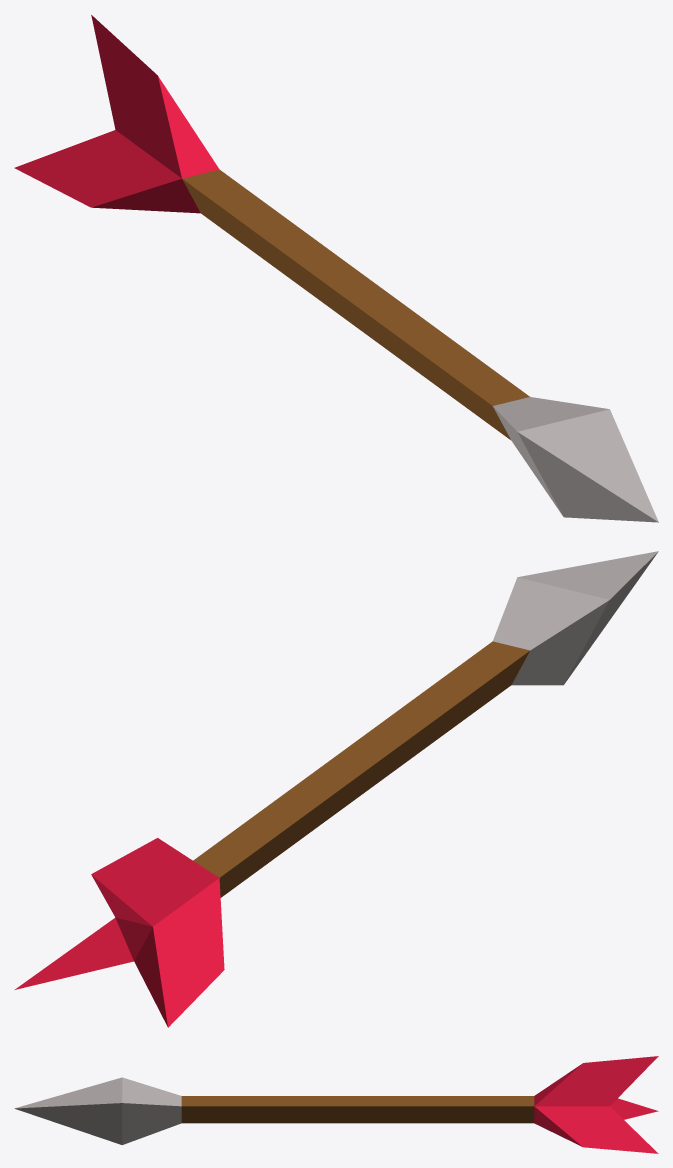
Rendered from Arrow.fbx.
The picture shows the model from 3 angles, top to bottom: view 1: azimuth 30°, elevation 25°; view 2: azimuth 150°, elevation 25°; view 3: azimuth 270°, elevation 25°; orthographic projection. The views are drawn at different scales.
Parts seen in each view (by area): view 1: Arrow; view 2: Arrow; view 3: Arrow.
Part boxes in pixels (x1,y1,x2,y2): Arrow: [14, 15, 658, 522]; Arrow: [15, 551, 658, 1027]; Arrow: [14, 1056, 658, 1153].
Bounding box in the file's own units: 3.58 × 3.48 × 22.8.
